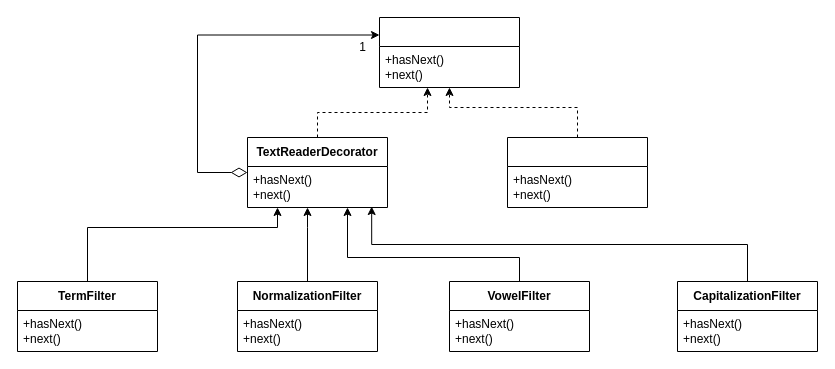
Some shapes in this 835 by 369 pixel diagram are drawn without their labels. Here are the shapes that lost their labels. From the top down, the box of each, then its label:
(378, 16, 520, 88): <<interface>> TextReaderInterface
(506, 136, 648, 208): TextReader
